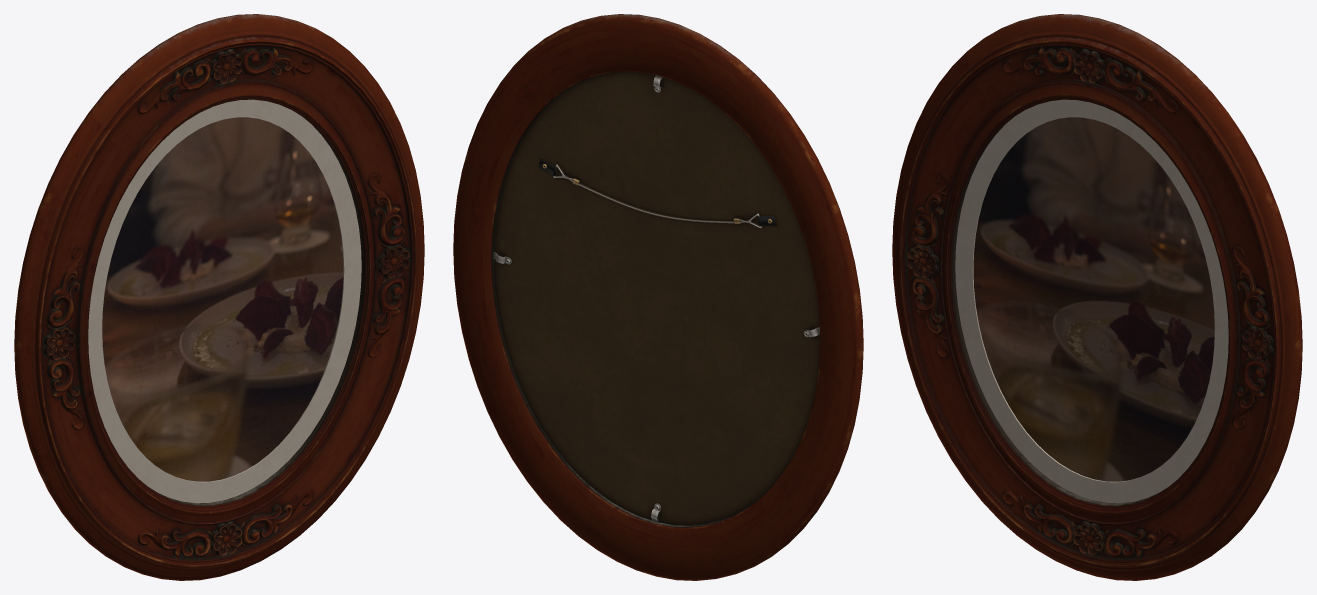
File: frame_side2.glb
3 renders of one model, left to right at view 1: azimuth 30°, elevation 25°; view 2: azimuth 150°, elevation 25°; view 3: azimuth 330°, elevation 25°, orthographic.
Parts seen in each view (by area): view 1: hanging_picture_frame_03; view 2: hanging_picture_frame_03; view 3: hanging_picture_frame_03.
Boxes of the visible parts, box(x1,y1,x2,y2) form: hanging_picture_frame_03: box(14, 14, 424, 580); hanging_picture_frame_03: box(453, 14, 863, 580); hanging_picture_frame_03: box(892, 14, 1302, 580).
Size of the model in its own units: 0.385 by 0.5024 by 0.0207.
2 materials, 2 textured.
